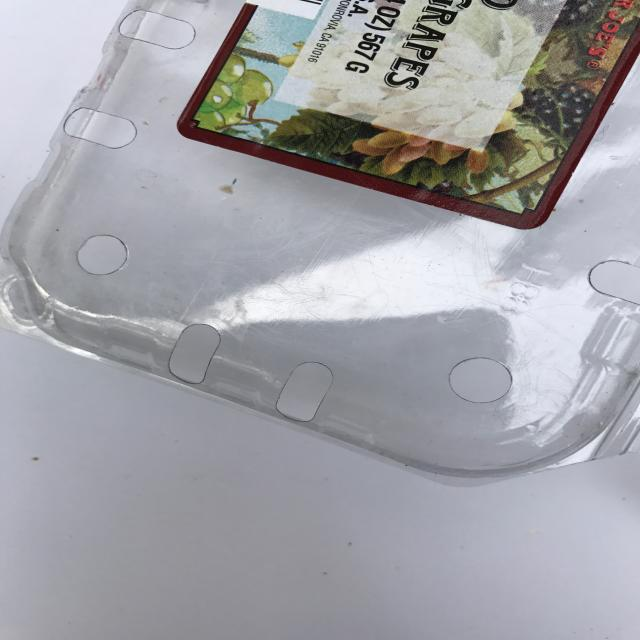plastic: (1, 0, 639, 486)
